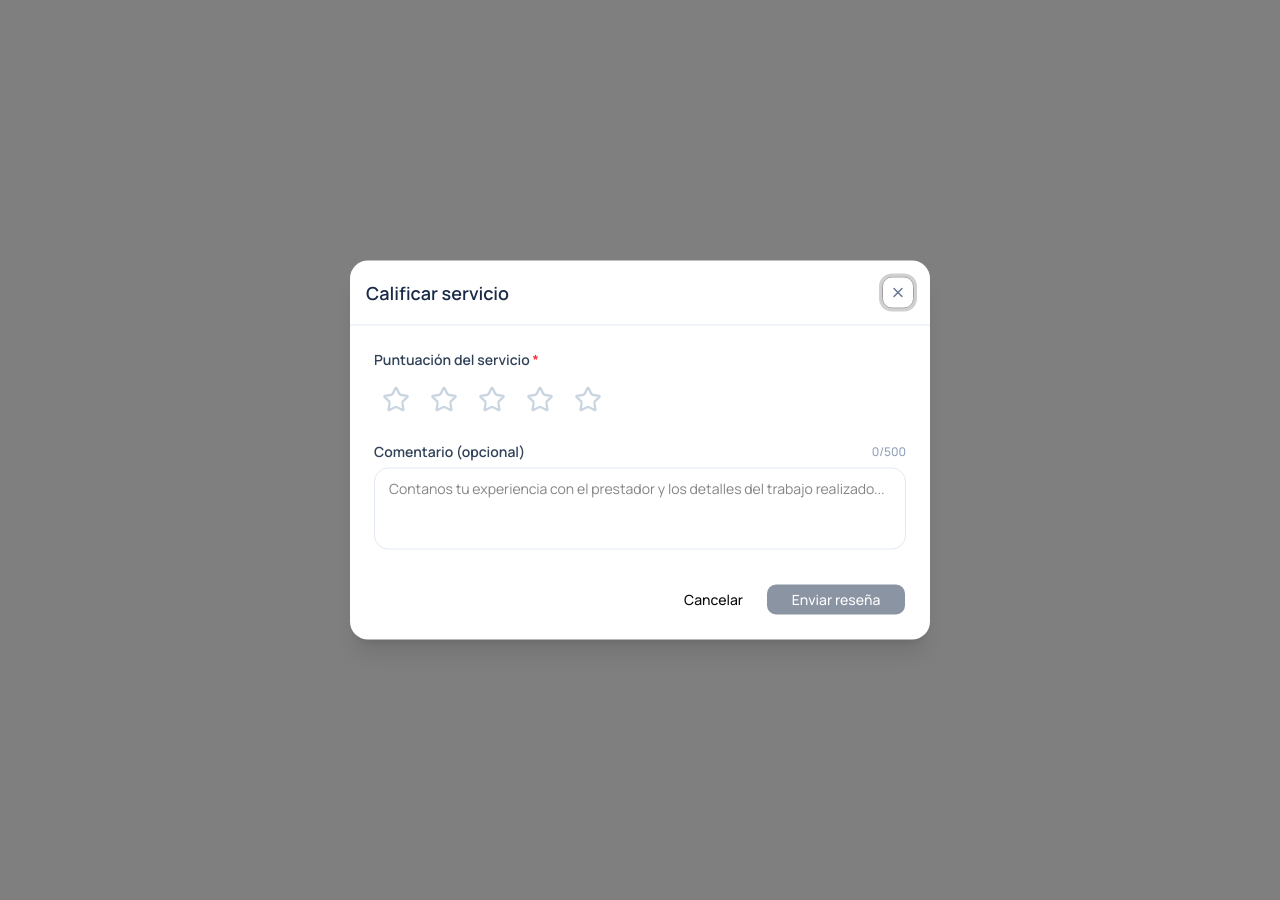
Test case: ReviewWorkOrderModal › should submit review and display success message on successful response
Click the radio button named "5 estrellas" at (588, 400), box left=566, top=378, right=610, bottom=422
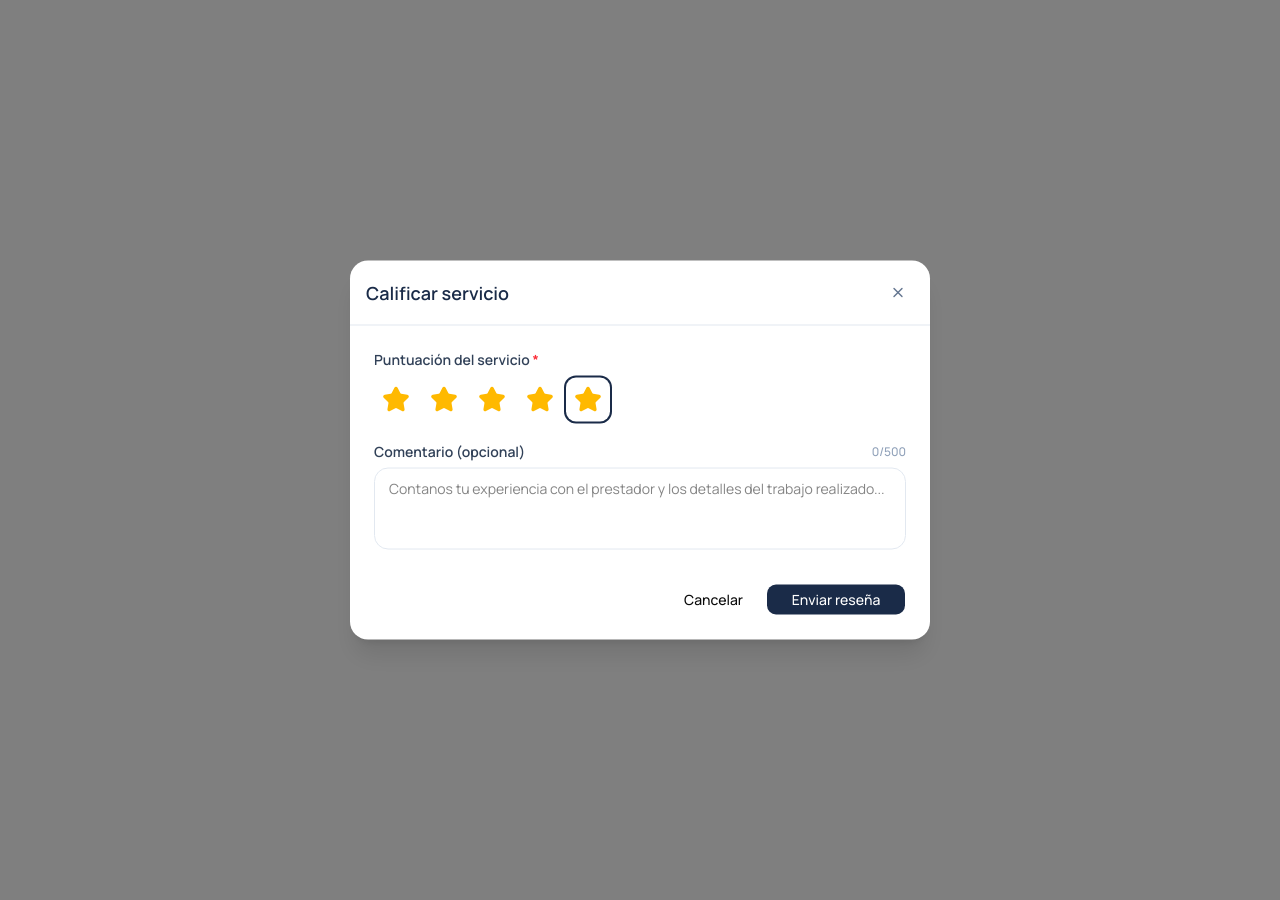
Type "Excelente atención" into the text box with test id "review-comment-input" at (640, 508), box left=374, top=468, right=906, bottom=550
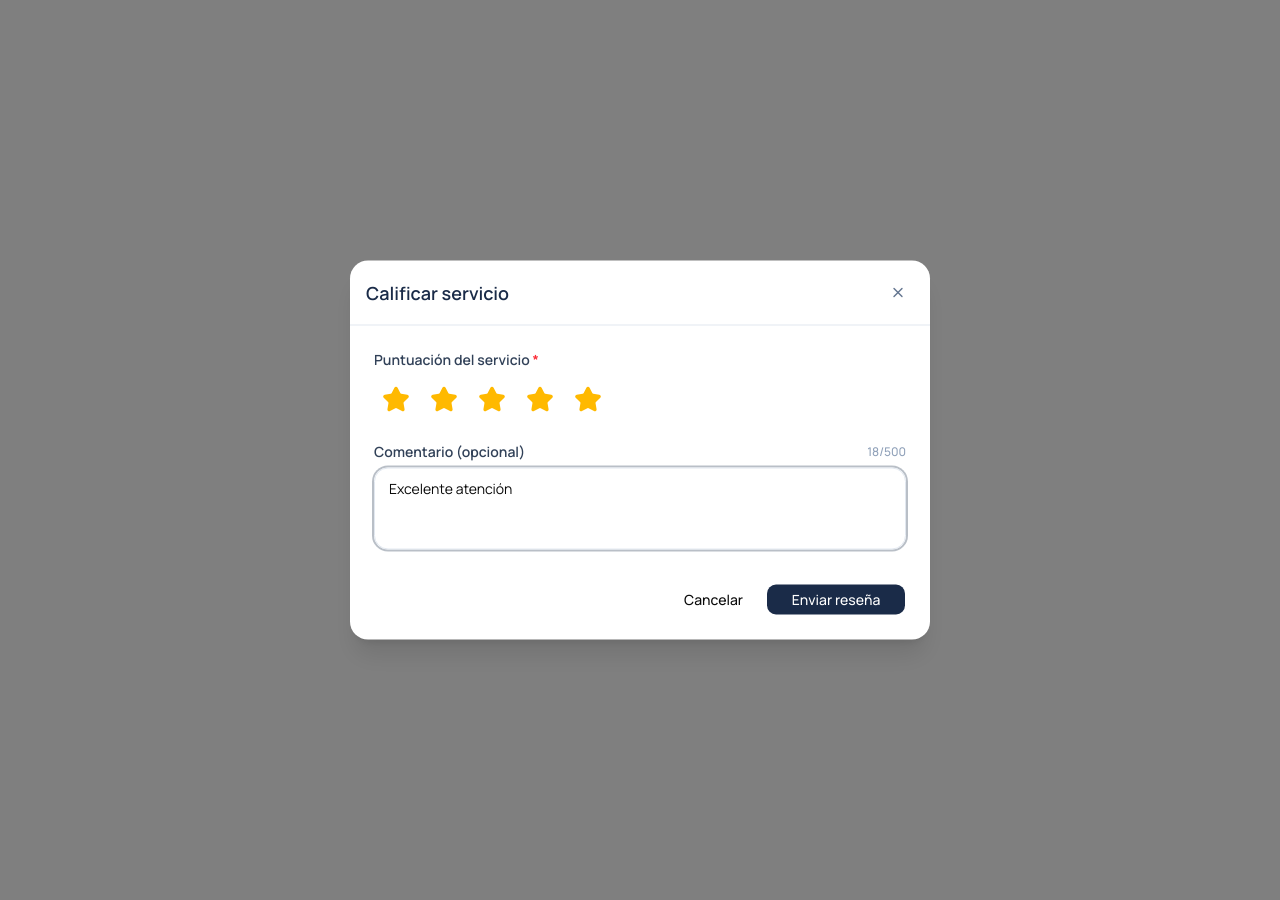
Click the button with test id "submit-review-button" at (836, 600), box left=766, top=584, right=906, bottom=616
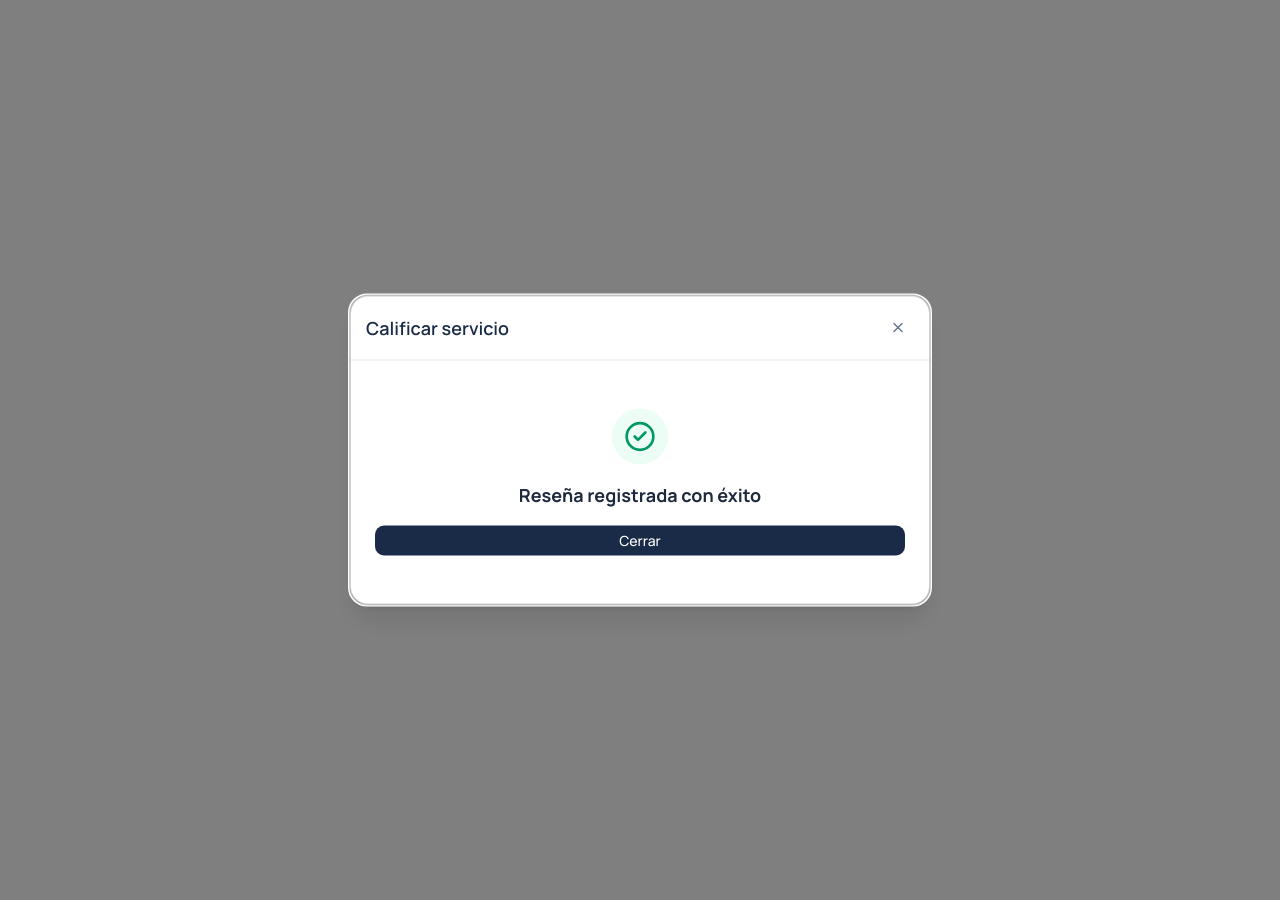
Expected: the element with test id "review-success-message" is shown, left=374, top=384, right=906, bottom=580
Expected: the text "Reseña registrada con éxito" is shown, left=519, top=482, right=761, bottom=506
